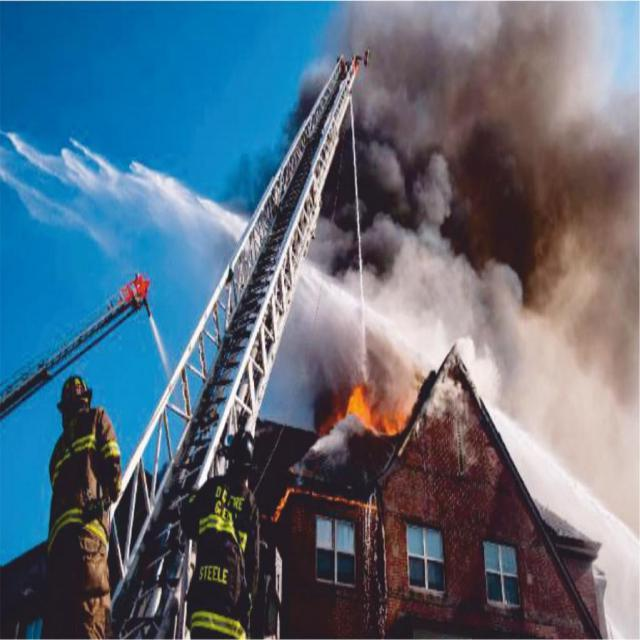Fire: (314, 298, 424, 514)
